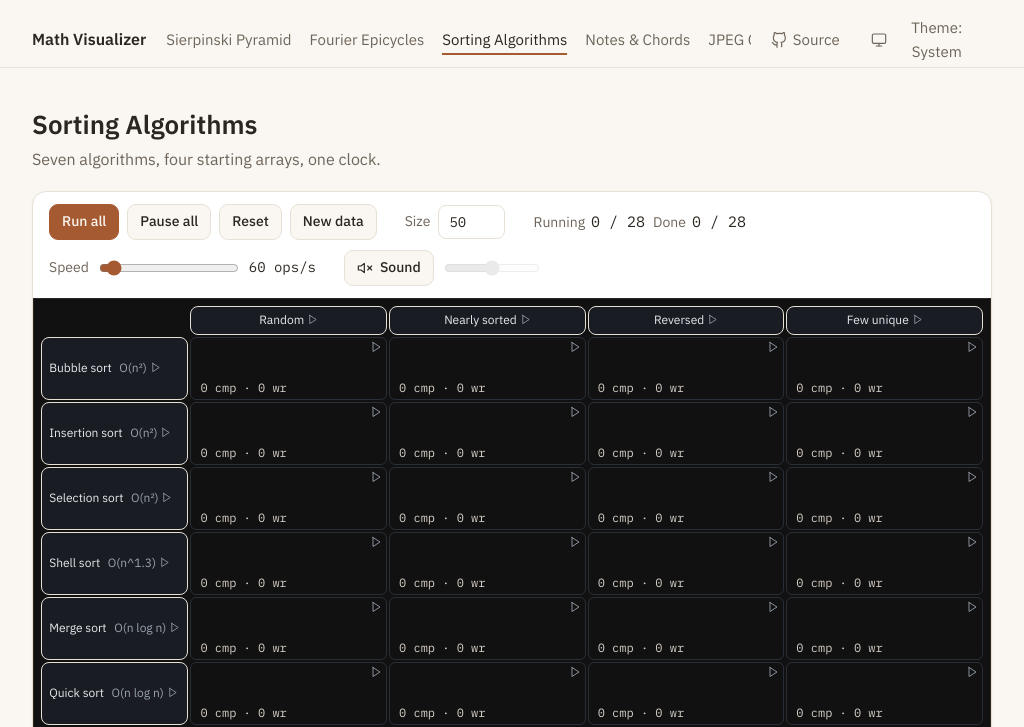
Test: SortingLab.svelte › the speaker button toggles sound on and off and enables the volume slider
This screenshot has width=1024, height=727.
Click the button labelled "Sound": (389, 268) x1=344 y1=250 x2=434 y2=286
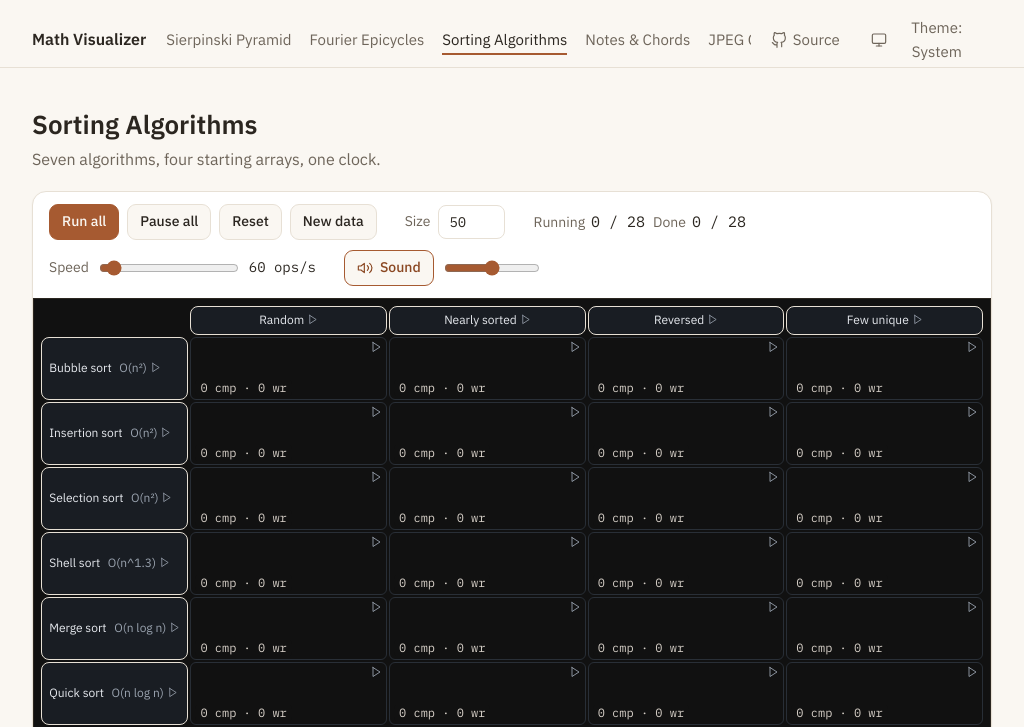
Now the slider named "Volume" is enabled
Set the slider named "Volume" to "0.8": (516, 268) x1=444 y1=260 x2=540 y2=276
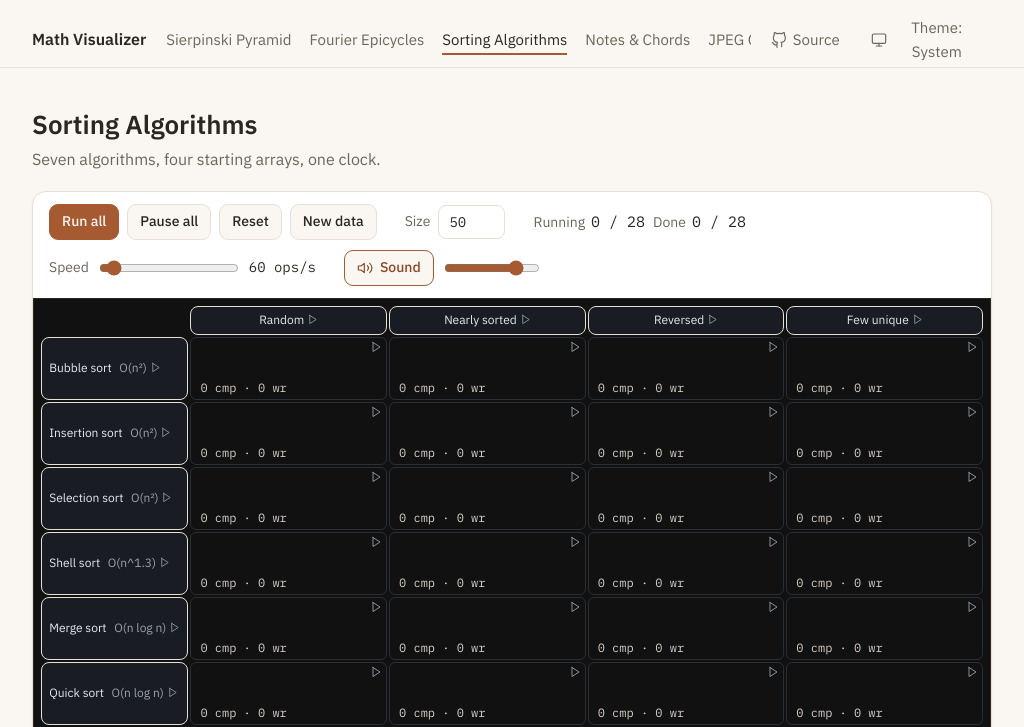
Click the button labelled "Sound": (389, 268) x1=344 y1=250 x2=434 y2=286
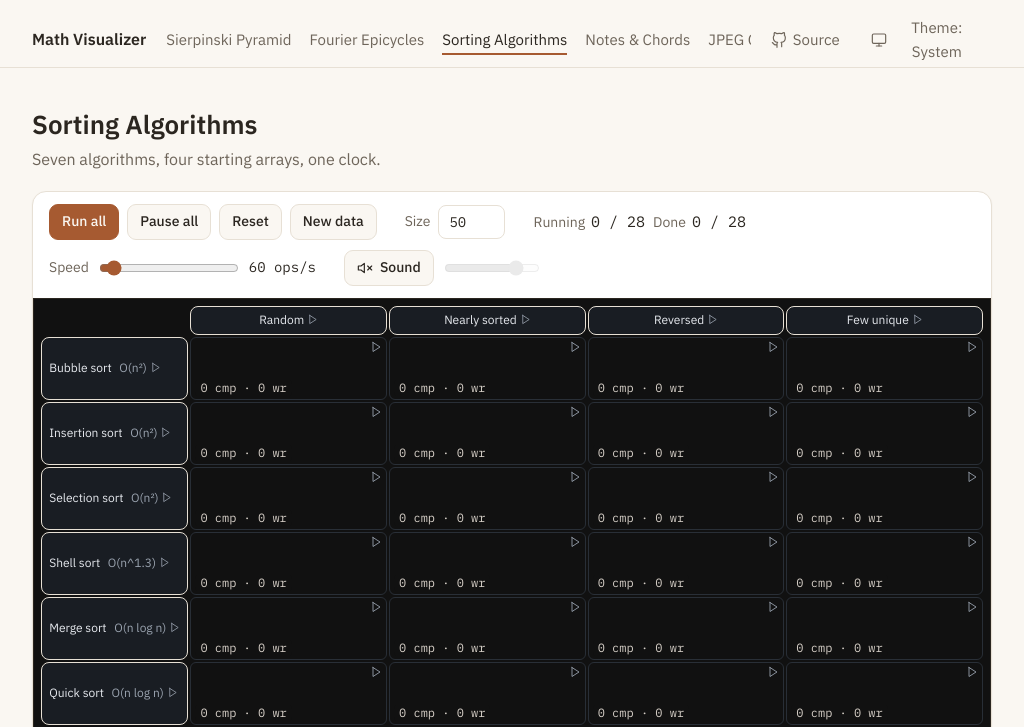
Now the slider named "Volume" is disabled, box x1=444 y1=260 x2=540 y2=276
